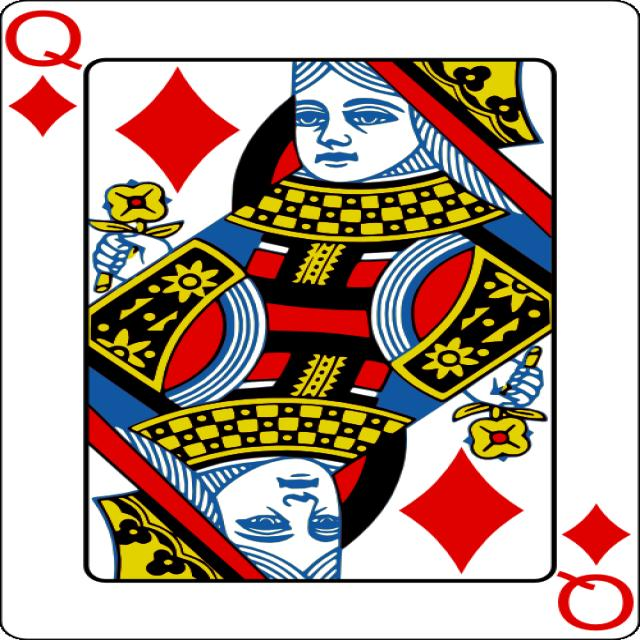Diamond: (398, 447, 524, 575), (115, 66, 240, 194), (562, 504, 632, 566), (8, 75, 76, 136)
Queen: (4, 10, 83, 70), (556, 571, 634, 630)
